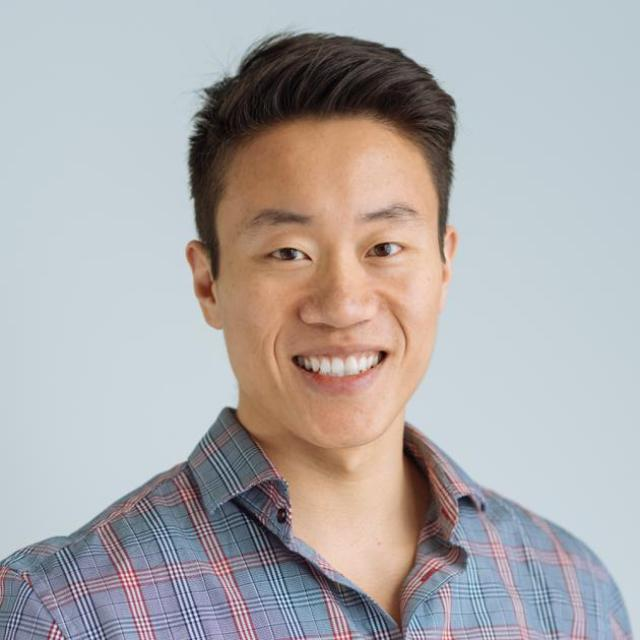Nonhelmet: (175, 24, 452, 454)
